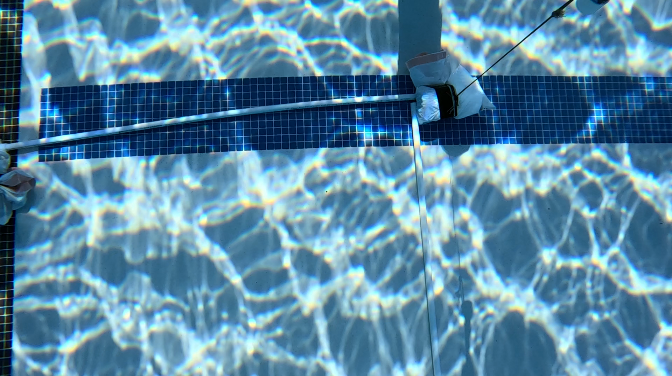sandbag: (414, 74, 486, 119)
